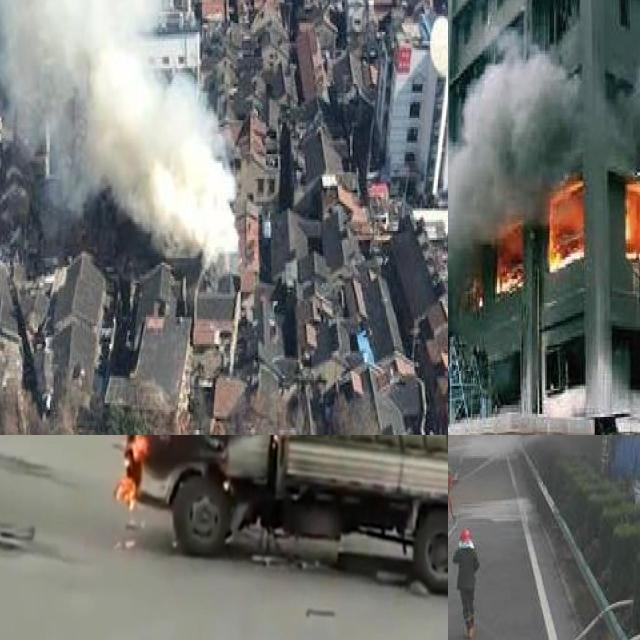fire: (548, 174, 586, 269), (113, 435, 147, 509), (493, 218, 526, 291), (622, 175, 640, 268)
smoke: (0, 0, 239, 251), (448, 36, 573, 340)
